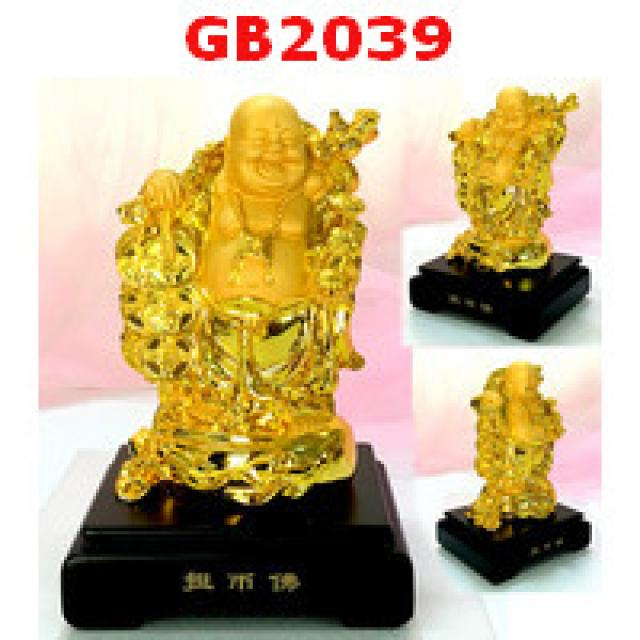Smiling Buddha: (154, 94, 372, 364)
